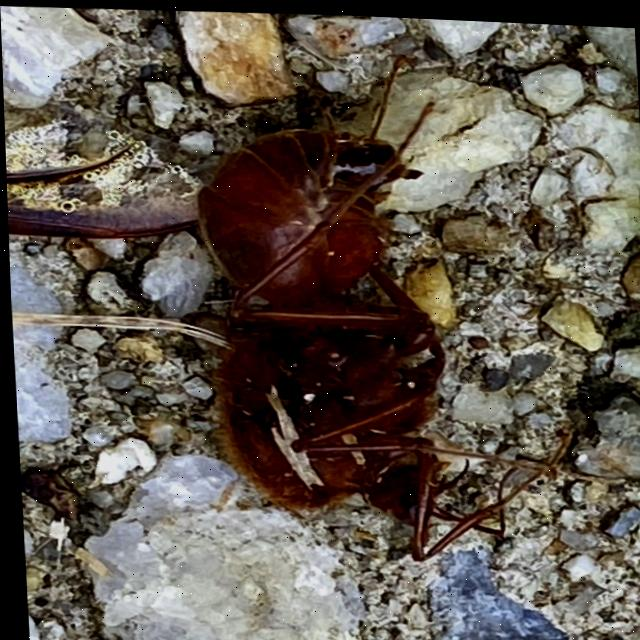Dead-Male-Dealate: (1, 33, 576, 571)
